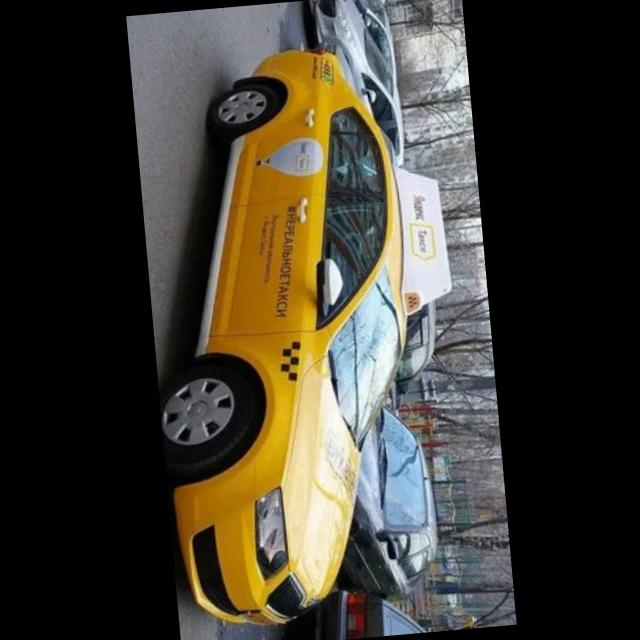taxi: (129, 36, 481, 635)
